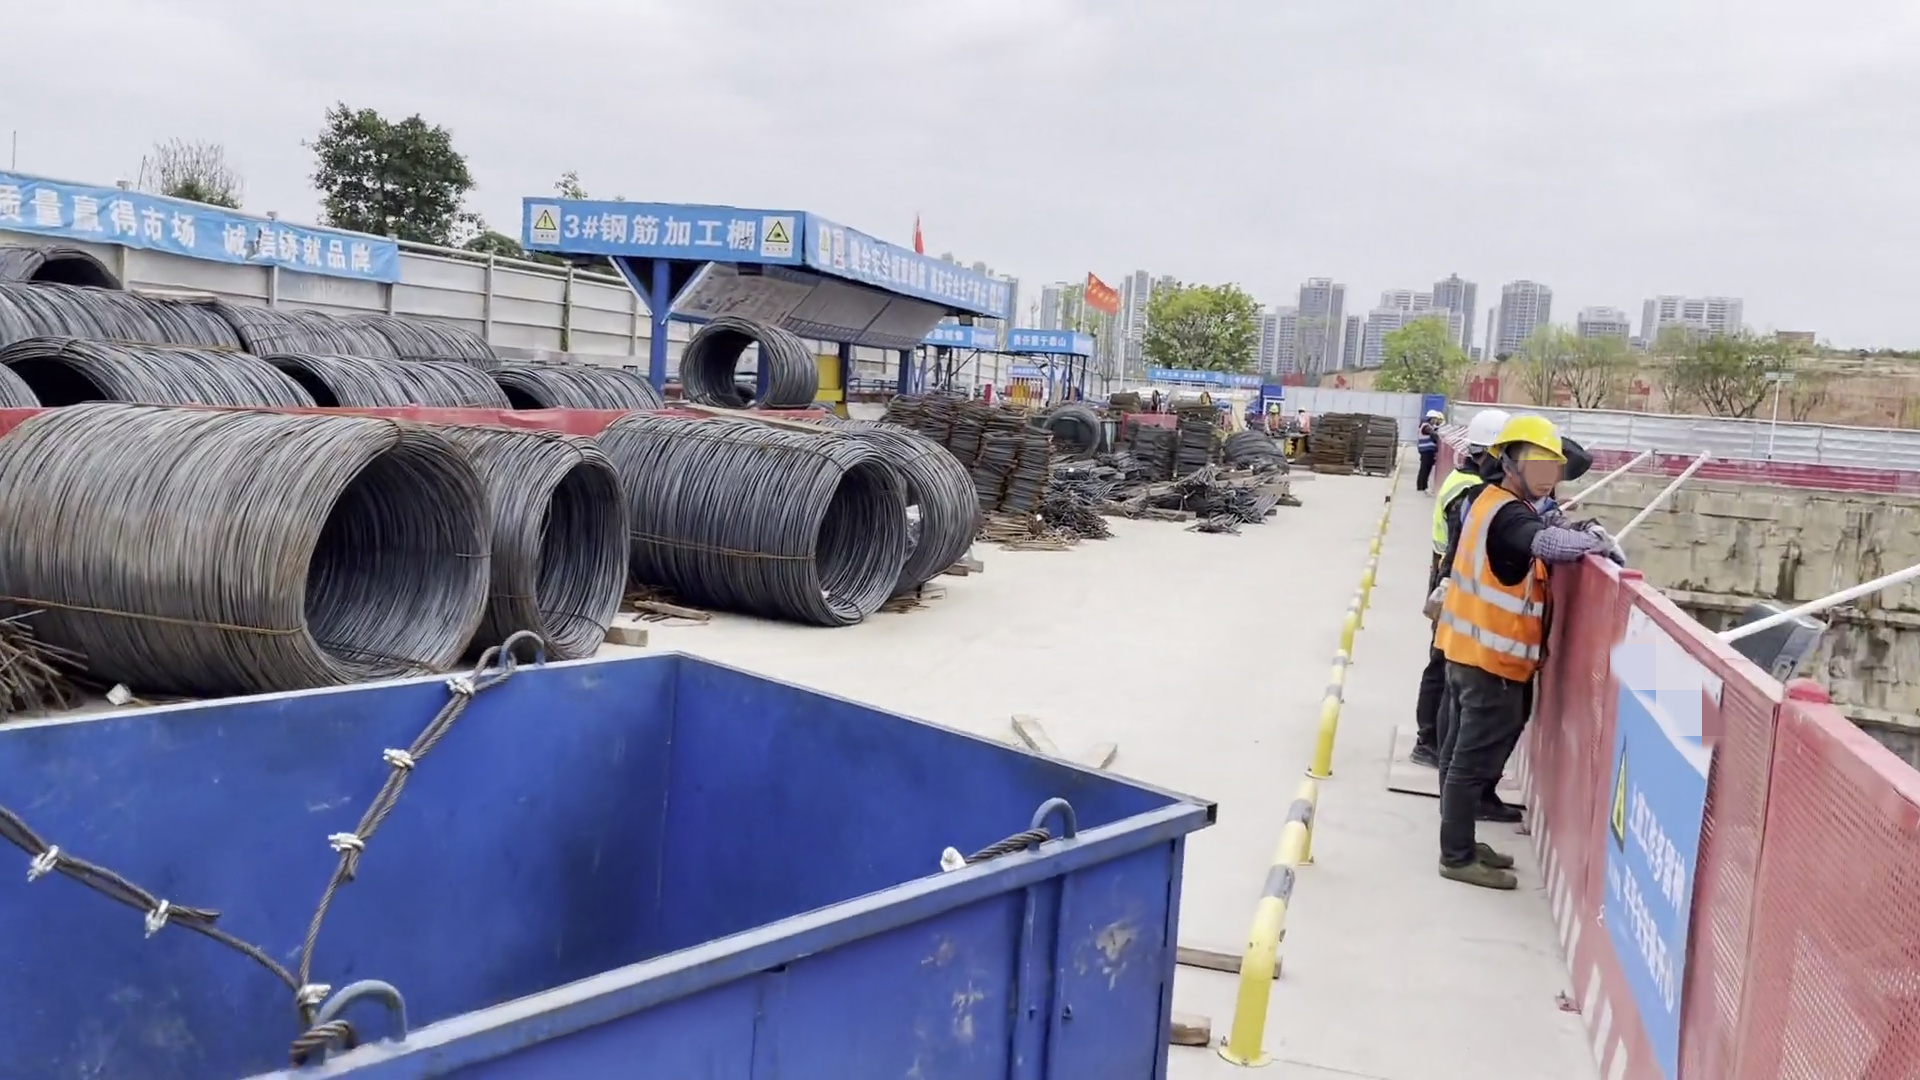helmet: (1497, 421, 1579, 469), (1473, 411, 1510, 442), (1426, 404, 1443, 423), (1269, 404, 1277, 414), (1298, 407, 1304, 412)
person: (1429, 419, 1574, 896), (1412, 398, 1519, 747), (1413, 410, 1445, 492), (1293, 407, 1310, 436), (1264, 404, 1280, 432)
vest: (1428, 497, 1552, 677), (1424, 473, 1474, 571), (1418, 425, 1437, 453), (1298, 413, 1309, 433), (1267, 415, 1279, 429)
